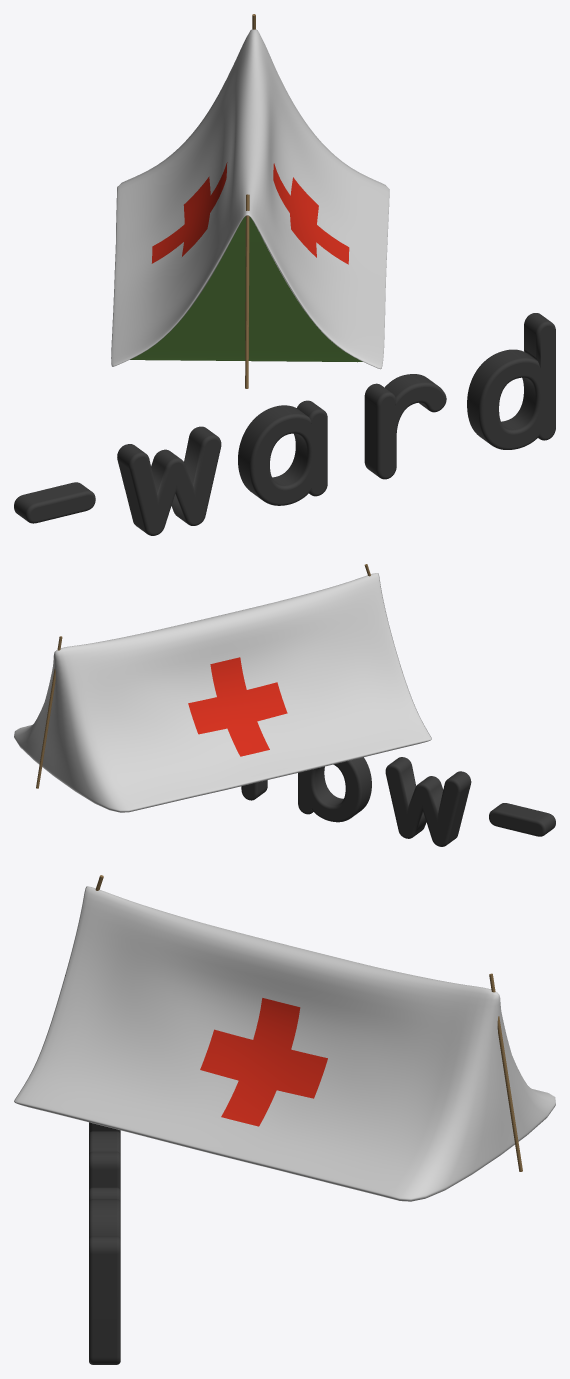
File: -ward.gltf
3 views of the same model, one above another, from view 1: azimuth 30°, elevation 25°; view 2: azimuth 150°, elevation 25°; view 3: azimuth 270°, elevation 25° (orthographic). The views are drawn at different scales.
Visible parts, largest first — view 1: Plane, Text.001, Plane.001, Text, Cylinder; view 2: Plane, Text.001, Text, Cylinder.001; view 3: Plane, Text, Text.001, Cylinder.001.
Boxes of the visible parts, x1,y1,x2,y2 form: Plane: (111,29,389,369); Text.001: (117,374,446,535); Plane.001: (130,216,362,362); Text: (14,313,555,523); Cylinder: (245,194,249,388); Plane: (14,573,431,812); Text.001: (241,757,471,846); Text: (489,803,555,836); Cylinder.001: (36,636,62,788); Plane: (14,886,555,1201); Text: (89,1236,120,1364); Text.001: (89,1122,120,1238); Cylinder.001: (489,973,522,1171).
Size of what is drawn, in the model's own units: 2.68 by 1.53 by 2.23.
